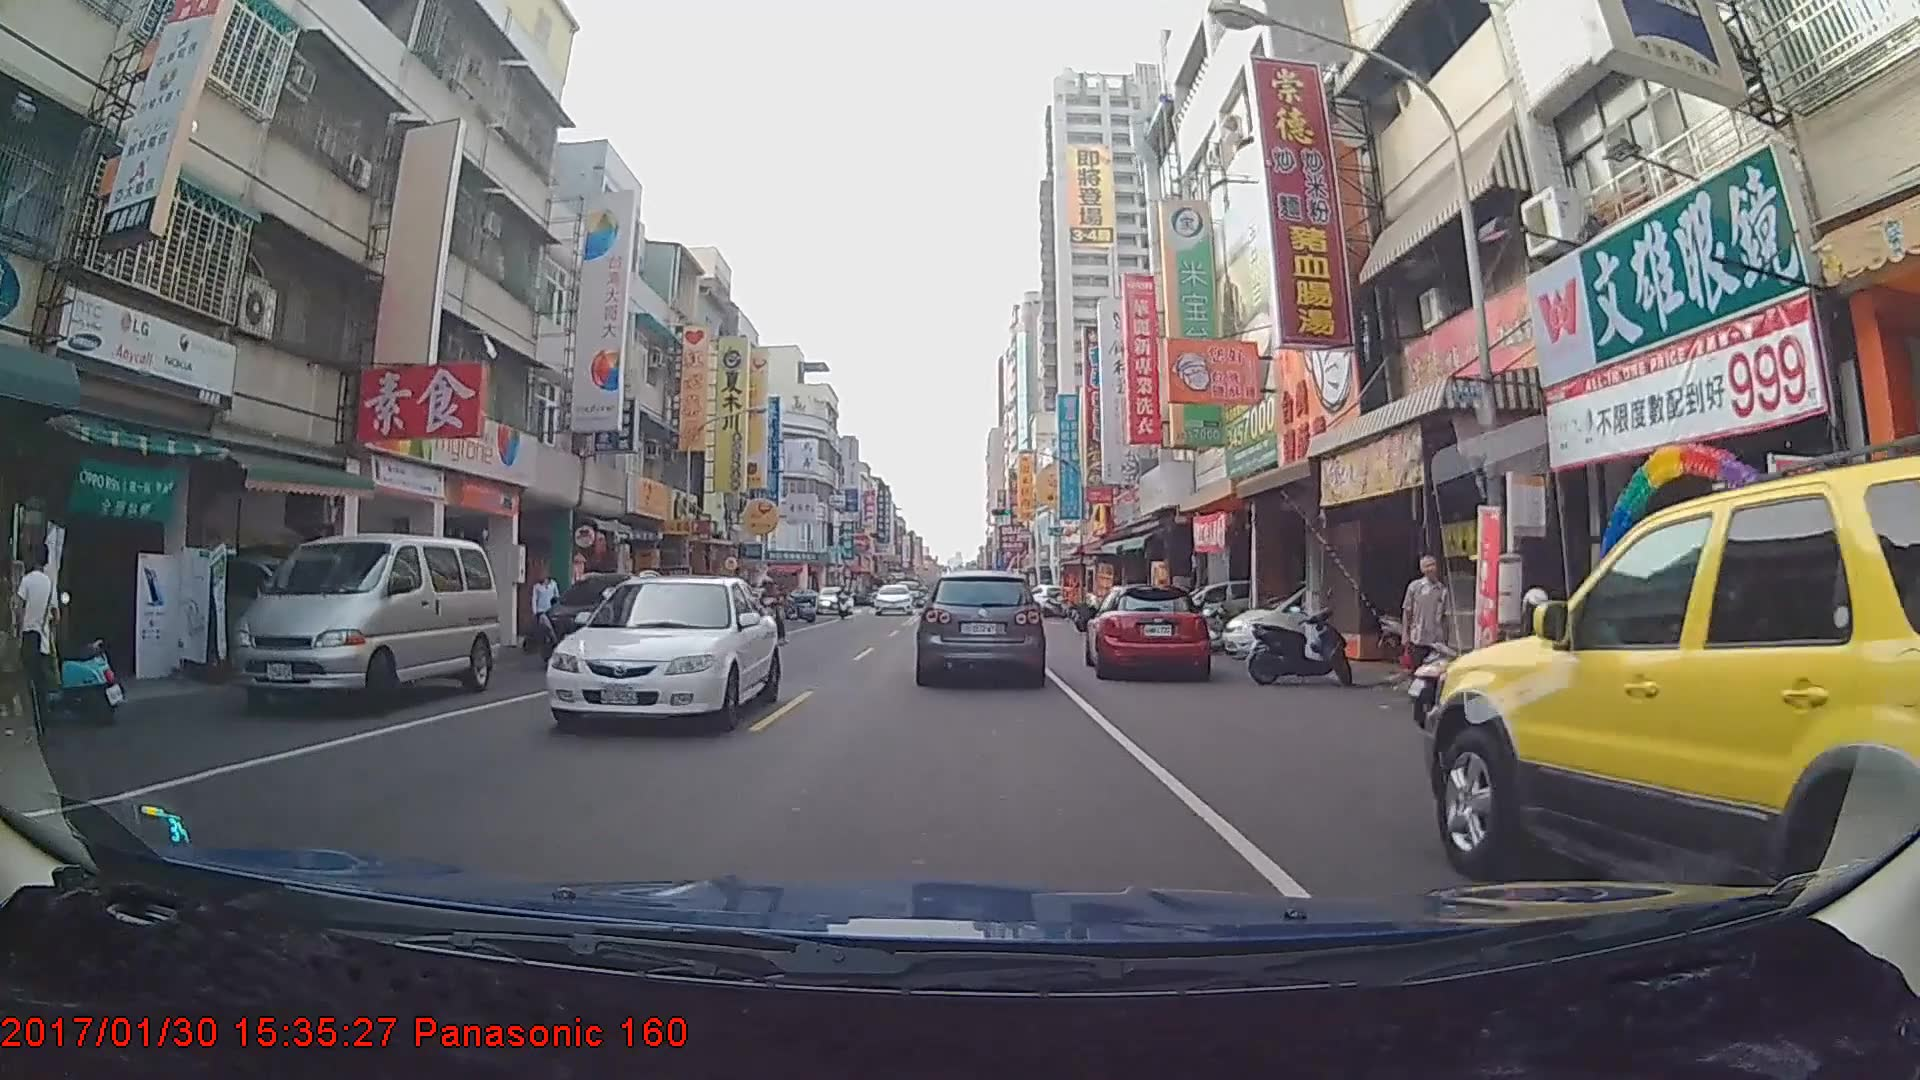pedestrian: (12, 544, 64, 744), (1401, 553, 1456, 720), (530, 568, 564, 645)
vehicle: (1426, 453, 1920, 961), (225, 529, 502, 716), (544, 570, 779, 736), (915, 569, 1044, 683), (534, 571, 673, 668), (1082, 581, 1209, 680), (871, 584, 912, 616), (815, 587, 853, 617)
